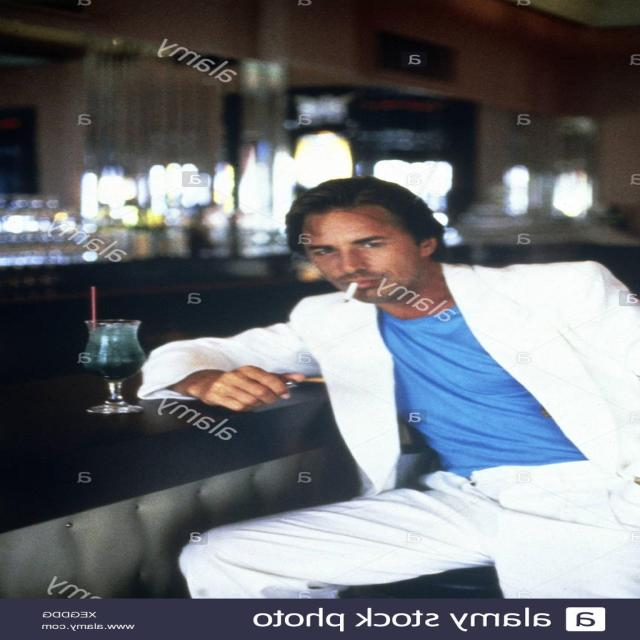smoking: (279, 164, 479, 316)
